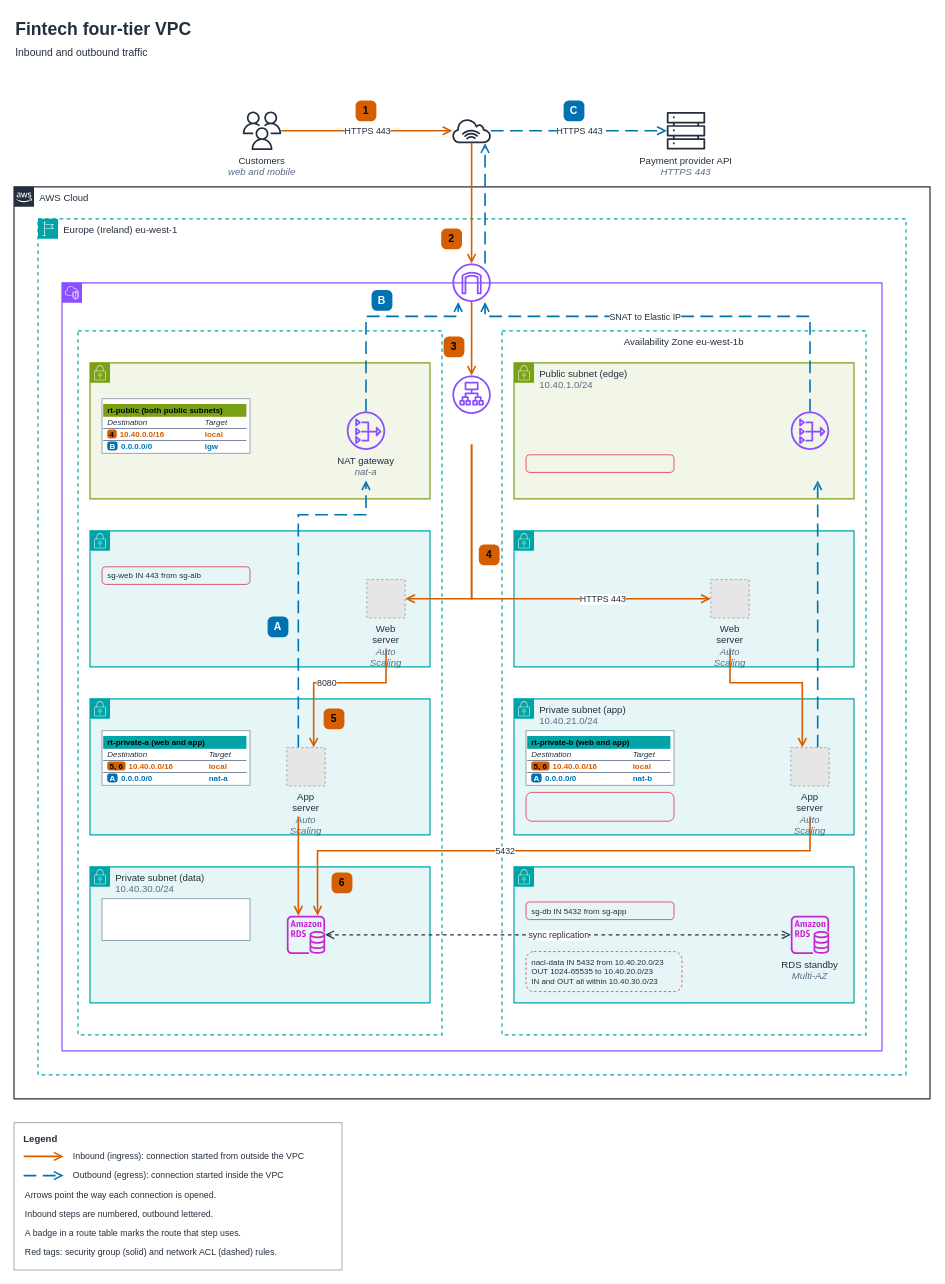
Image size: 945x1284. Some labels were removed from this diagram. Grey dashed boxes stand in for pictures. The box of each missing label's shape, as (x1, y1, x2, y2) in pixels:
Application Load Balancer + AWS WAF: (452, 375, 490, 414)
Availability Zone eu-west-1a: (77, 330, 442, 1035)
Internet: (452, 111, 490, 150)
Internet gateway igw: (452, 263, 490, 302)
NAT gateway nat-b: (790, 411, 829, 450)
Private subnet (app) 10.40.20.0/24: (89, 698, 430, 835)
Private subnet (data) 10.40.31.0/24: (513, 866, 854, 1003)
Private subnet (web) 10.40.10.0/24: (89, 530, 430, 667)
Private subnet (web) 10.40.11.0/24: (513, 530, 854, 667)
Public subnet (edge) 10.40.0.0/24: (89, 362, 430, 499)
RDS primary PostgreSQL: (286, 915, 325, 954)
rt-data (both data subnets) Destination Target 10.40.0.0/16 local: (101, 898, 250, 940)
sg-alb IN 443 from 0.0.0.0/0: (525, 454, 674, 472)
sg-app IN 8080 from sg-web OUT 443 any · 5432 sg-db: (525, 792, 674, 821)
VPC 10.40.0.0/16: (61, 282, 882, 1051)
